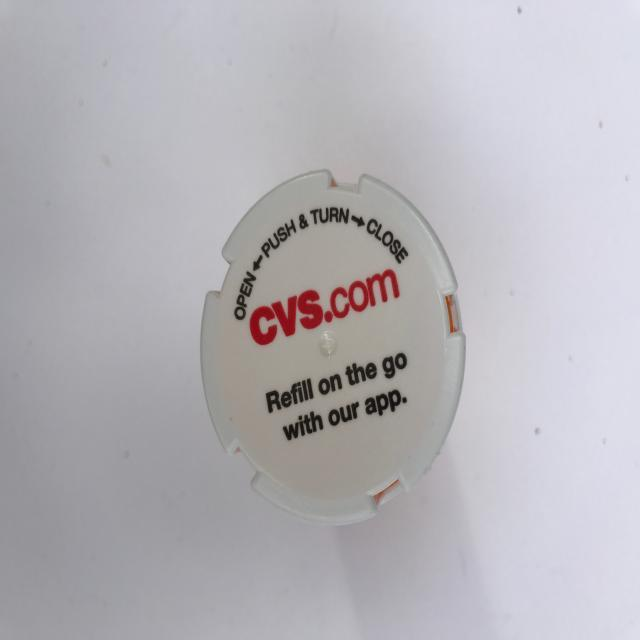plastic: (200, 162, 470, 523)
